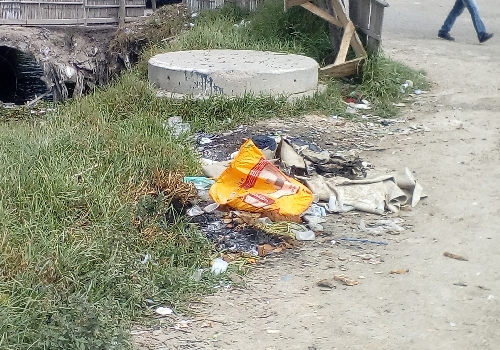trash: (157, 130, 415, 261)
